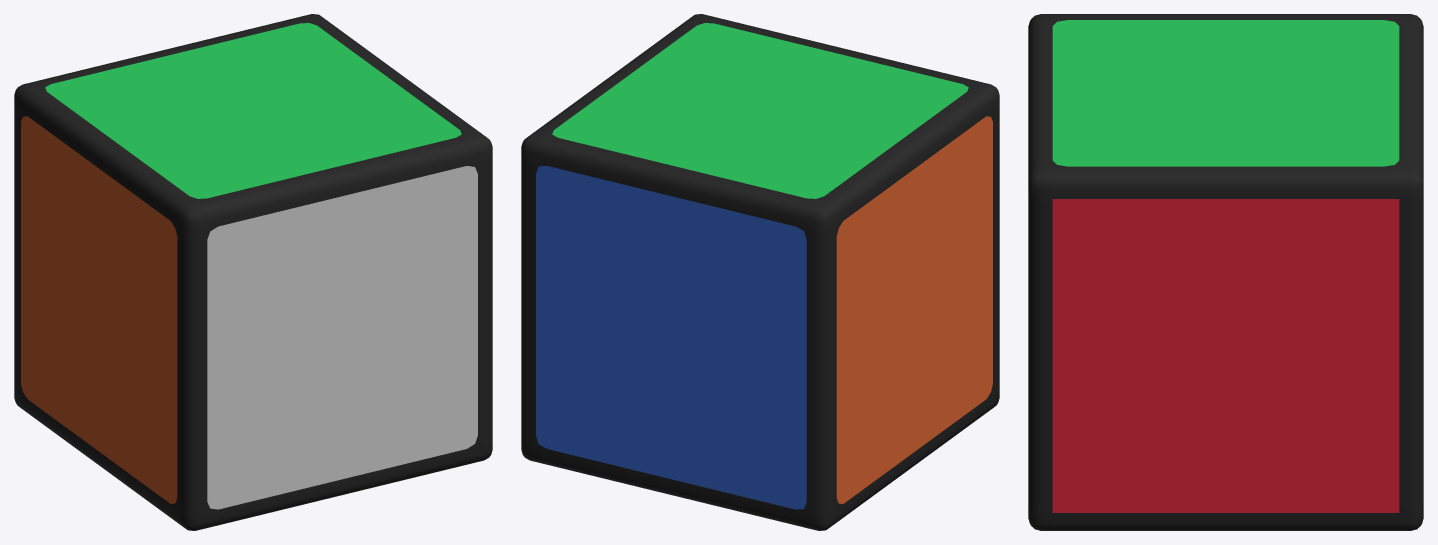
File: rubiks_cube.glb
The picture shows the model from 3 angles, left to right: view 1: azimuth 30°, elevation 25°; view 2: azimuth 150°, elevation 25°; view 3: azimuth 270°, elevation 25°; orthographic projection. The views are drawn at different scales.
Visible parts, largest first — view 1: Cube; view 2: Cube; view 3: Cube.
Part boxes in pixels (x1,y1,x2,y2): Cube: [14, 14, 492, 530]; Cube: [521, 14, 999, 530]; Cube: [1028, 14, 1423, 530].
Size of the model in its own units: 1 by 1 by 1.
